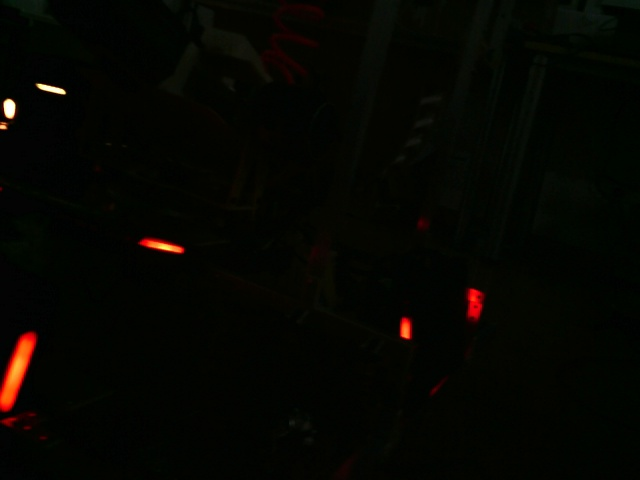lamp: (2, 324, 38, 417)
